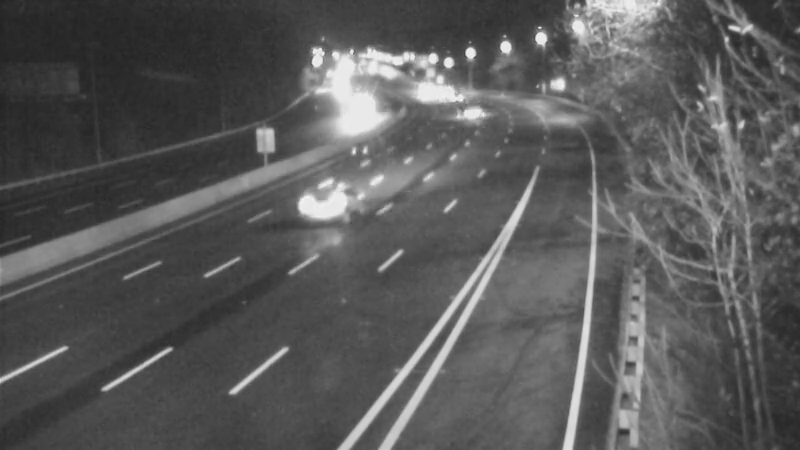vehicle: (283, 155, 363, 235), (398, 71, 448, 121), (431, 73, 481, 123), (449, 90, 499, 140), (333, 83, 383, 133)
